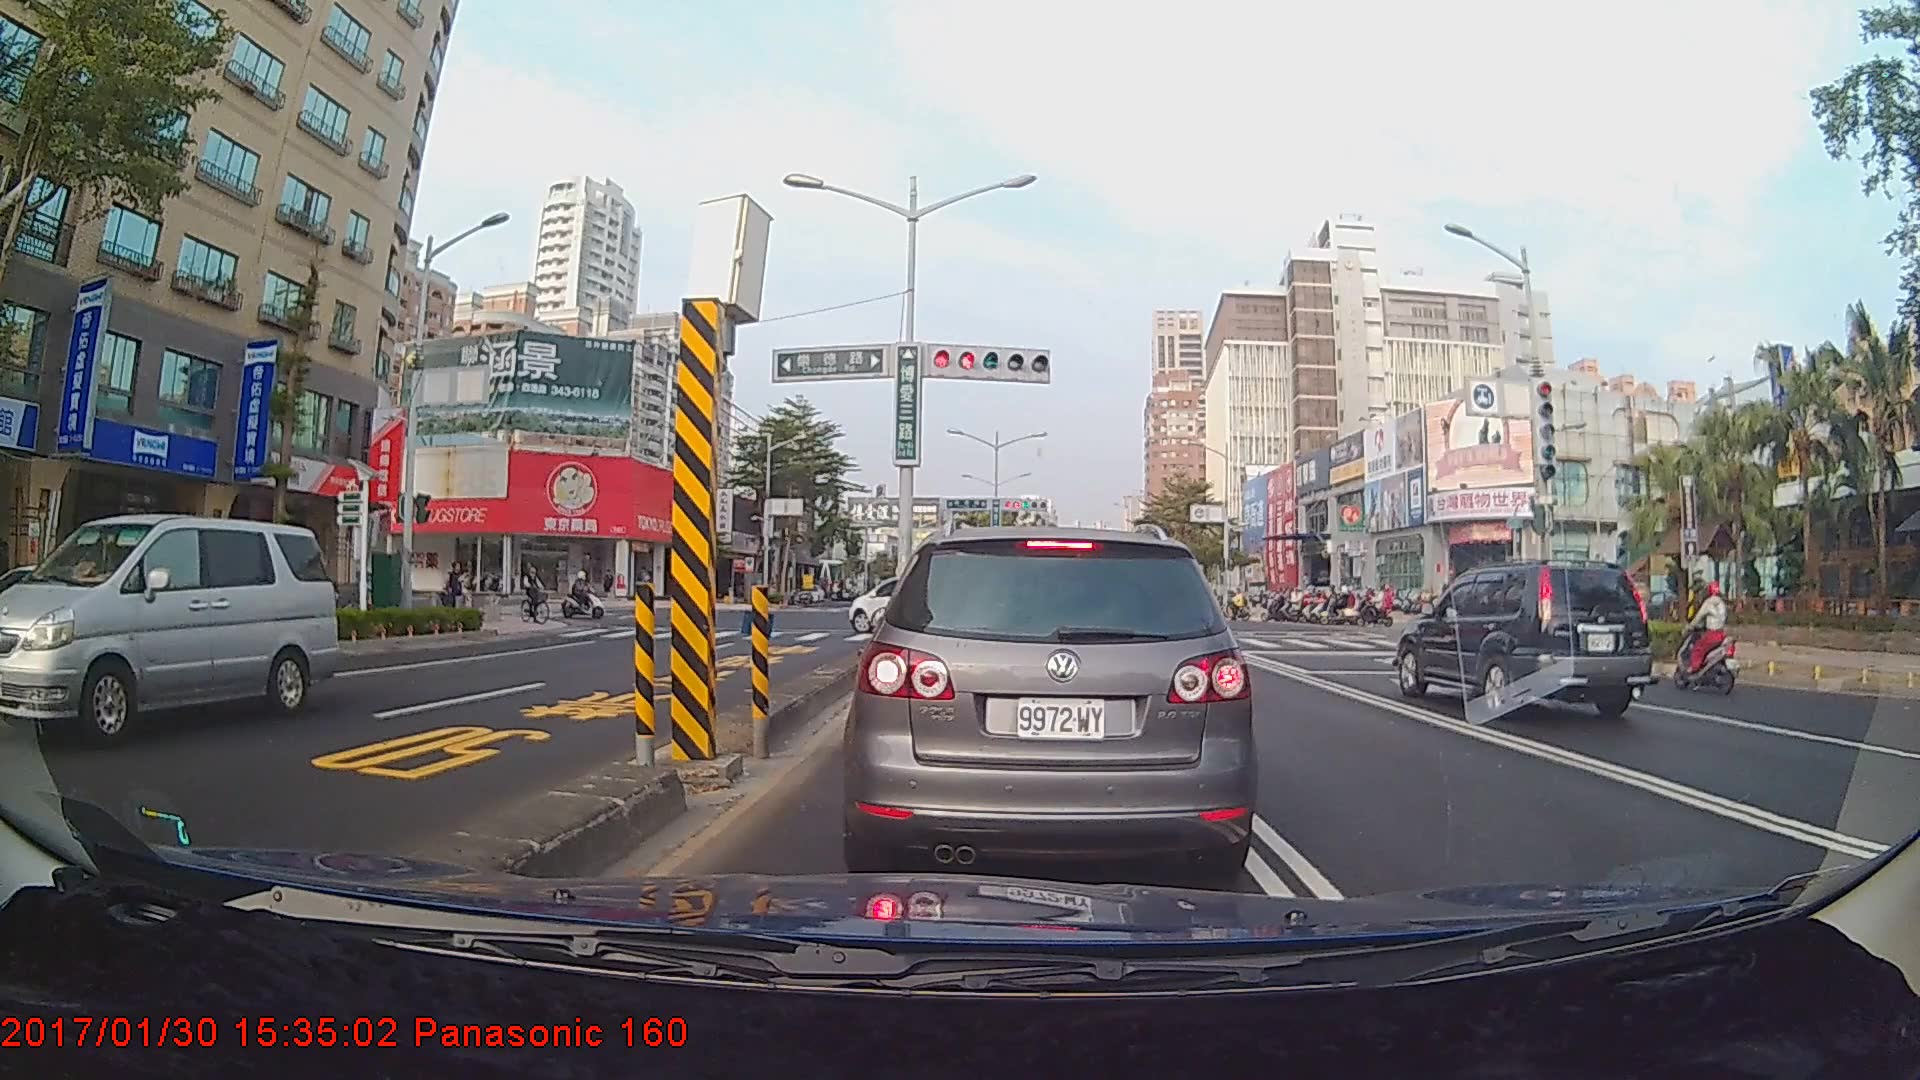pedestrian: (447, 563, 467, 620)
rider: (1671, 566, 1748, 697), (562, 566, 609, 619), (522, 566, 551, 627)
vehicle: (841, 515, 1257, 881), (0, 513, 339, 746), (1392, 557, 1654, 723)
